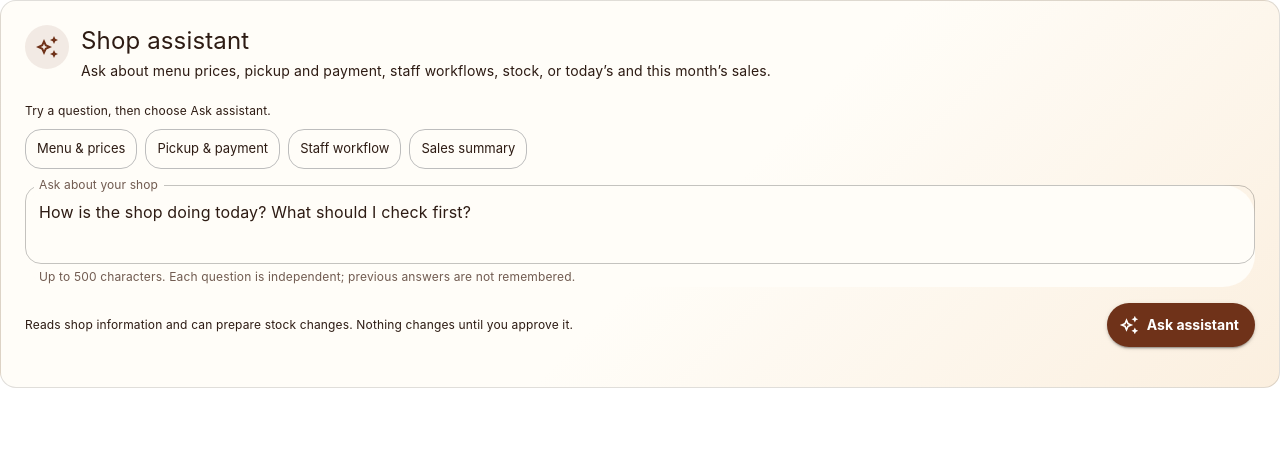
Test: shop assistant › blocks duplicate generation while pending and displays failures without automatic retries
The image size is (1280, 453).
Click the button "Ask assistant" at (1181, 325), box top-left (1107, 303), bottom-right (1255, 347)
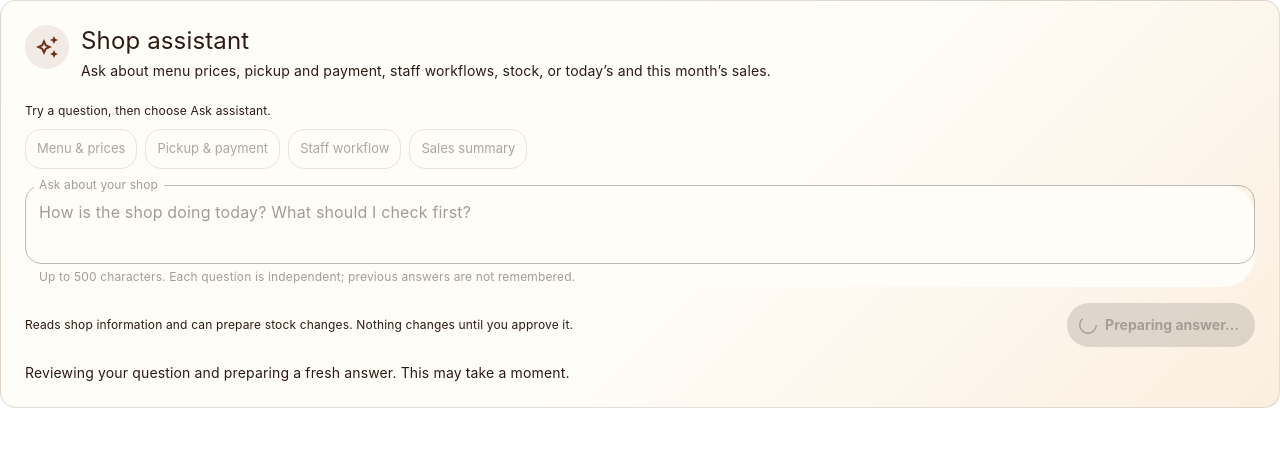
Expected: the button "Preparing answer…" is disabled, top-left (1067, 303), bottom-right (1255, 347)
Expected: the text box is disabled, top-left (39, 201), bottom-right (1241, 247)
Expected: the button "Sales summary" is disabled, top-left (410, 129), bottom-right (527, 169)
Submit the form named "Ask the shop assistant", box top-left (25, 101), bottom-right (1255, 383)
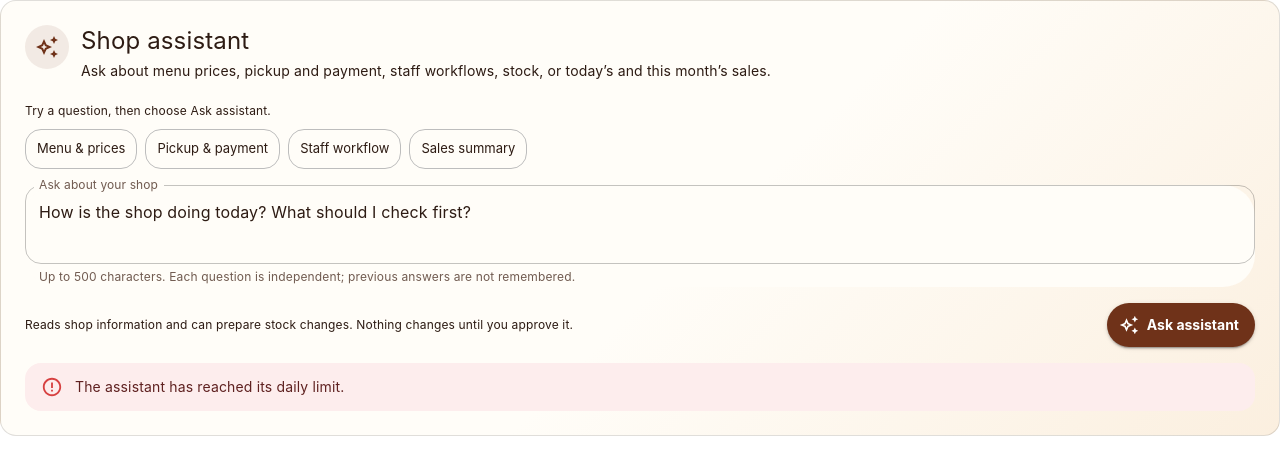
Expected: the message reads "The assistant has reached its daily limit.", top-left (75, 378), bottom-right (344, 395)
Expected: the button "Ask assistant" is enabled, top-left (1107, 303), bottom-right (1255, 347)
